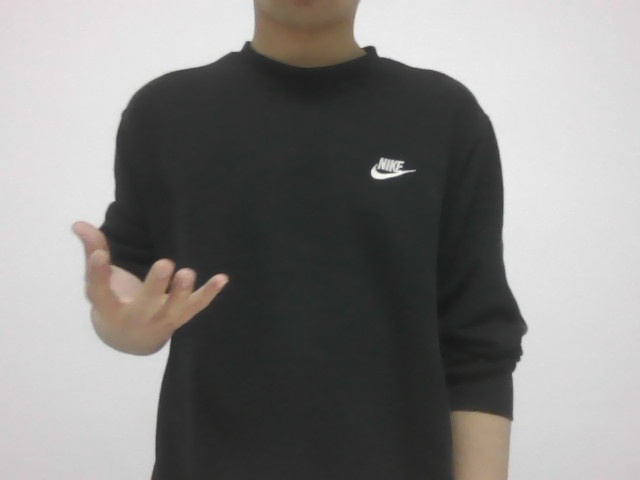flavor: (62, 205, 241, 346)
